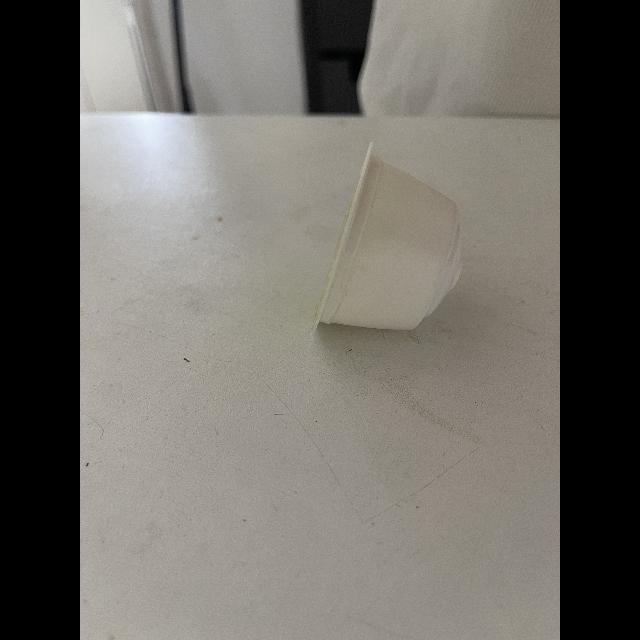intact_capsule: (306, 129, 474, 355)
